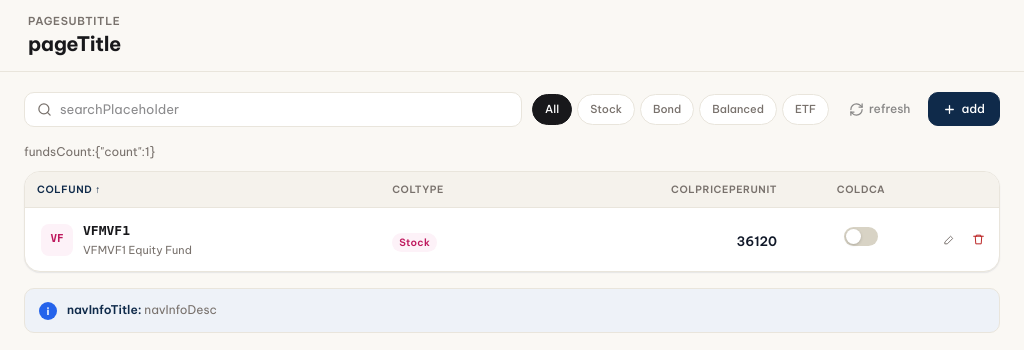
Scenario: DesktopFundLibraryView — DCA amount edit must not desync from the server (#2) › a brand-new (just-toggled-on) DCA still reverts to off when left blank — no PUT
Click the button named "enableDca" at point(861, 236), box [844,227,878,246]
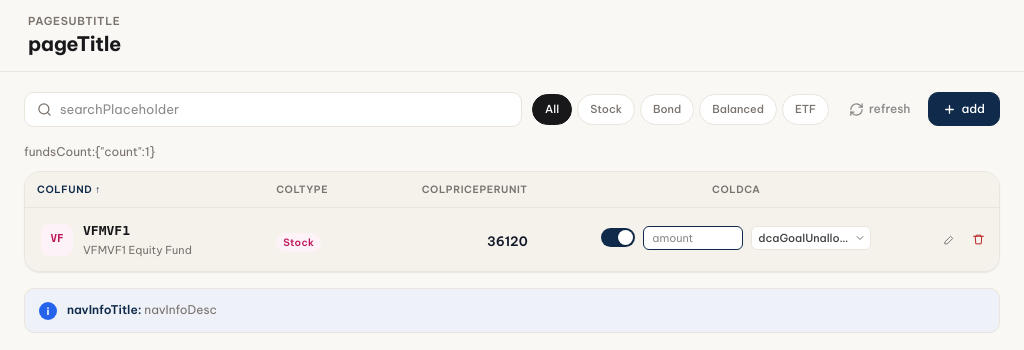
Leave the field with test id "dca-amount-input-f1", box [643,226,743,250]
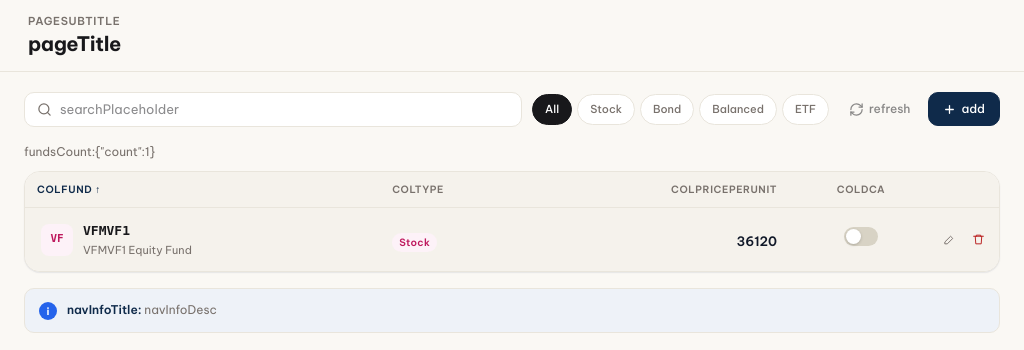
Check: the button named "enableDca" is shown, box [844,227,878,246]
